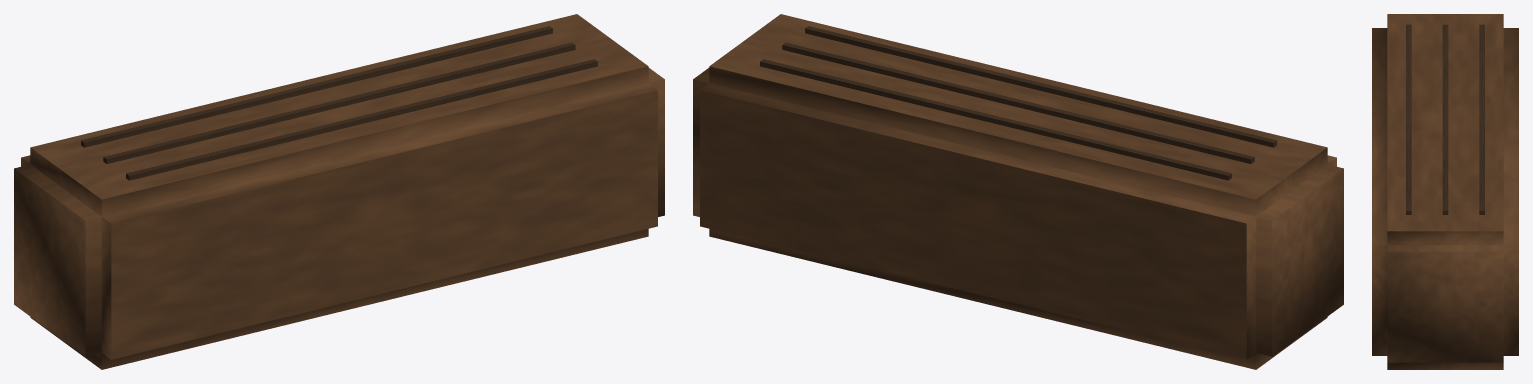
The model's file is ring-fallen-beam-0.fbx.
3 renders of one model, left to right at view 1: azimuth 30°, elevation 25°; view 2: azimuth 150°, elevation 25°; view 3: azimuth 270°, elevation 25°, orthographic. The views are drawn at different scales.
Visible parts, largest first — view 1: ring-fallen-beam-0__Geometry; view 2: ring-fallen-beam-0__Geometry; view 3: ring-fallen-beam-0__Geometry.
Part boxes in pixels (<box>): ring-fallen-beam-0__Geometry: <box>14,14,664,369</box>; ring-fallen-beam-0__Geometry: <box>693,14,1343,369</box>; ring-fallen-beam-0__Geometry: <box>1372,14,1518,369</box>.
Size of the model in its own units: 0.89 by 0.2585 by 0.24.
